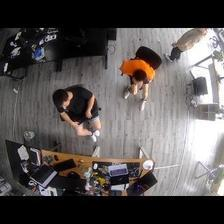normal: (50, 83, 106, 143), (116, 46, 158, 109), (166, 28, 209, 66)
